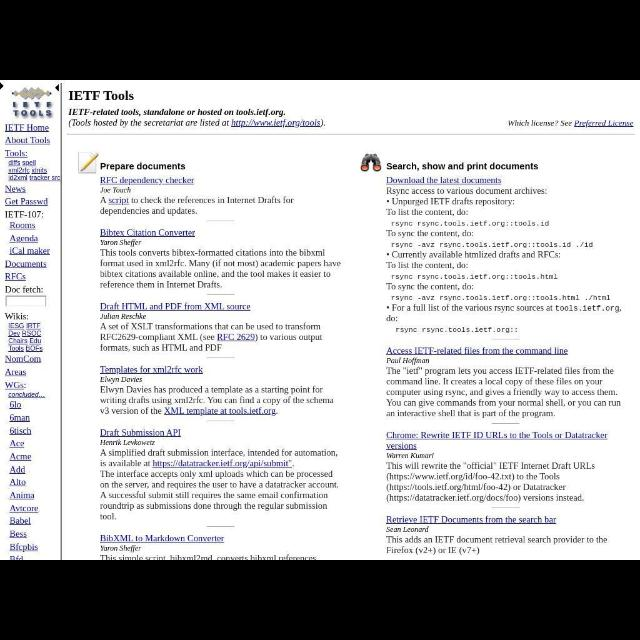image: (10, 88, 56, 120), (78, 152, 100, 174), (360, 154, 382, 172)
input: (5, 295, 48, 307)
link: (386, 432, 610, 451), (386, 348, 568, 357), (100, 302, 250, 312), (153, 458, 295, 468), (387, 516, 558, 524), (100, 534, 226, 544), (164, 406, 278, 416), (388, 177, 502, 186), (100, 228, 196, 238), (99, 177, 195, 186), (98, 428, 182, 438), (100, 366, 204, 374), (231, 119, 321, 128), (217, 332, 256, 342), (4, 136, 52, 144), (9, 247, 51, 256), (5, 124, 51, 132), (574, 121, 634, 127), (5, 198, 49, 206), (5, 260, 48, 268), (10, 504, 40, 514), (5, 355, 42, 363), (10, 542, 38, 552), (8, 322, 42, 330), (8, 330, 42, 338), (8, 337, 42, 345), (29, 174, 63, 182), (8, 392, 48, 398), (9, 426, 33, 436), (9, 516, 33, 526), (5, 272, 28, 282), (10, 235, 38, 243), (5, 368, 27, 378), (10, 452, 32, 462), (9, 222, 36, 230), (9, 491, 35, 499), (9, 346, 43, 352), (8, 478, 28, 488), (4, 149, 28, 157), (5, 381, 27, 389), (10, 414, 32, 422), (108, 197, 130, 205), (8, 174, 28, 182), (5, 185, 27, 192), (9, 439, 25, 448), (10, 530, 28, 538), (9, 400, 23, 410), (8, 168, 30, 174), (9, 466, 25, 474), (30, 168, 48, 174), (22, 160, 36, 167), (7, 160, 20, 167)
text: (386, 187, 622, 336), (100, 448, 338, 520), (386, 367, 622, 418), (99, 248, 341, 290), (386, 462, 596, 502), (100, 384, 334, 416), (100, 322, 324, 352), (386, 536, 608, 556), (100, 197, 294, 216), (68, 118, 326, 128), (68, 108, 286, 118), (386, 163, 538, 171), (101, 160, 187, 172), (68, 90, 134, 102), (508, 120, 634, 126), (100, 374, 142, 384), (386, 452, 434, 460), (100, 439, 154, 446), (100, 312, 146, 320), (386, 357, 430, 365), (100, 545, 142, 553), (6, 211, 44, 219), (5, 286, 43, 294), (100, 240, 142, 247), (386, 527, 429, 533), (100, 186, 130, 194), (4, 312, 30, 320)
